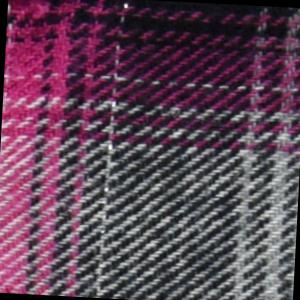Damage: (7, 1, 92, 38)
